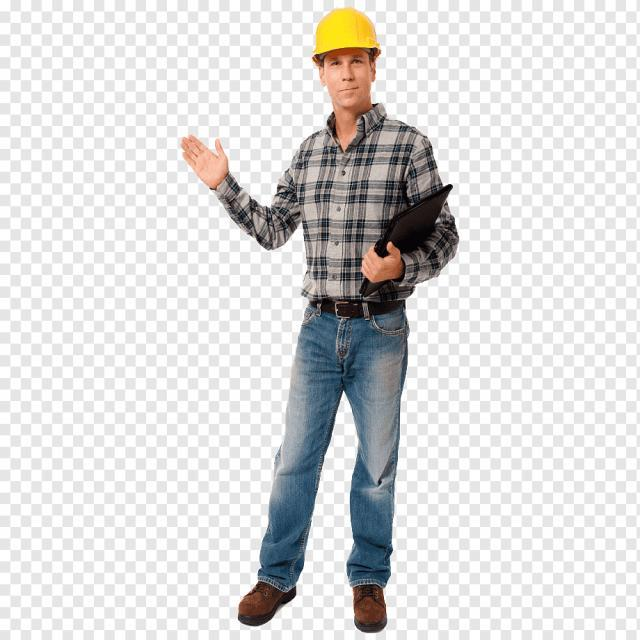safety_helmet: (311, 5, 382, 56)
